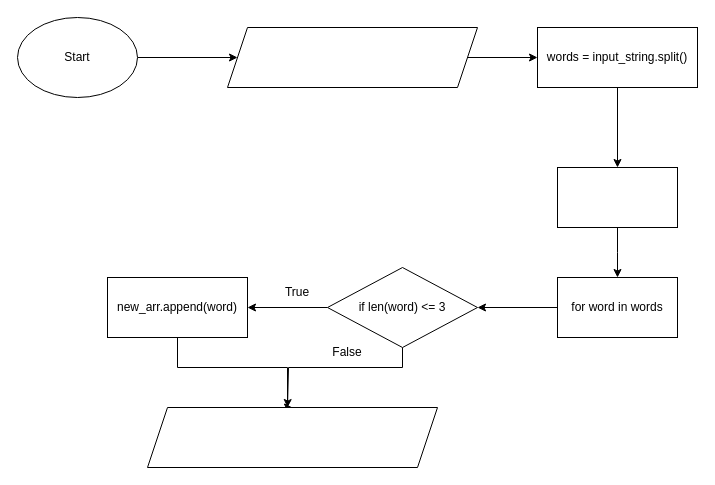
This 715x485 diagram has some shape labels left out. The shapes that lost their labels are listed below. From the top down, each one's centre as x and y in pixels, then its label:
[352,57]: input_string = input()
[617,197]: new_arr = []
[292,437]: print(" ".join(new_arr))
